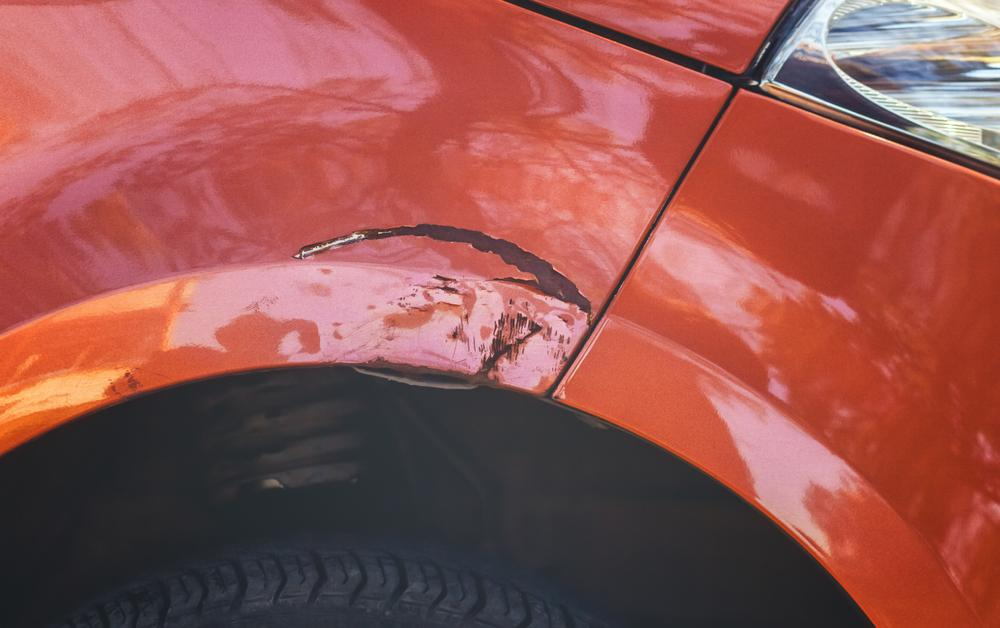scratch: (284, 217, 596, 396)
